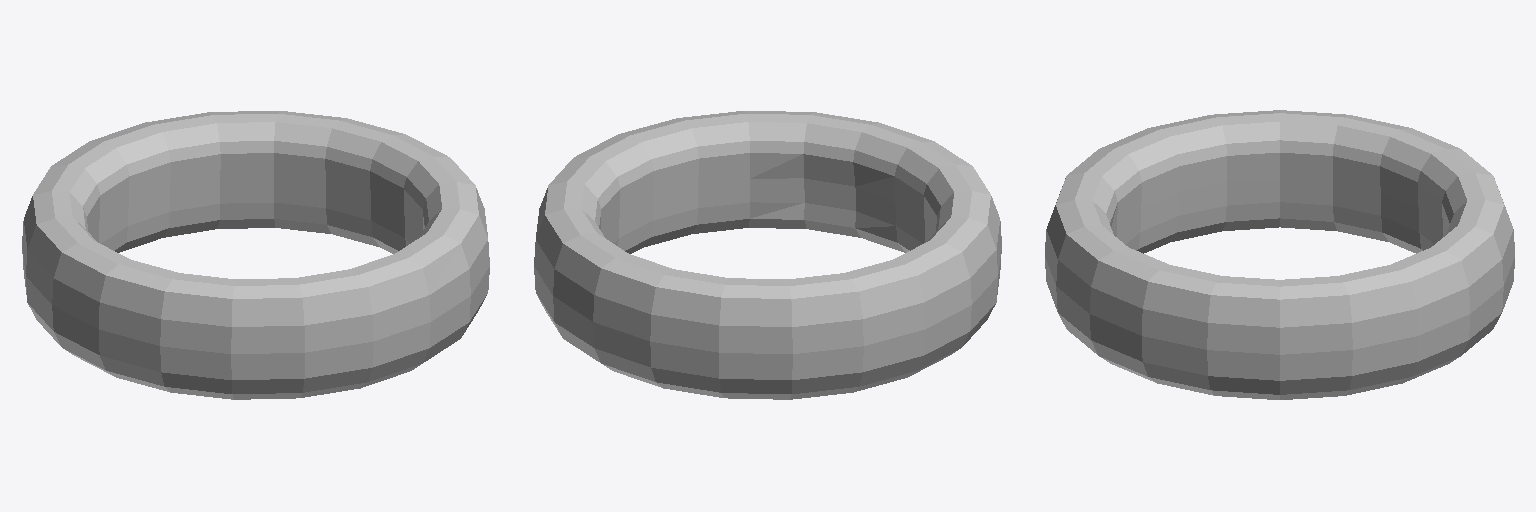
Rendered from Ring.obj.
3 views of the same model, side by side, from view 1: azimuth 30°, elevation 25°; view 2: azimuth 150°, elevation 25°; view 3: azimuth 270°, elevation 25° (orthographic).
Size of the model in its own units: 0.0676 by 0.0178 by 0.0676.